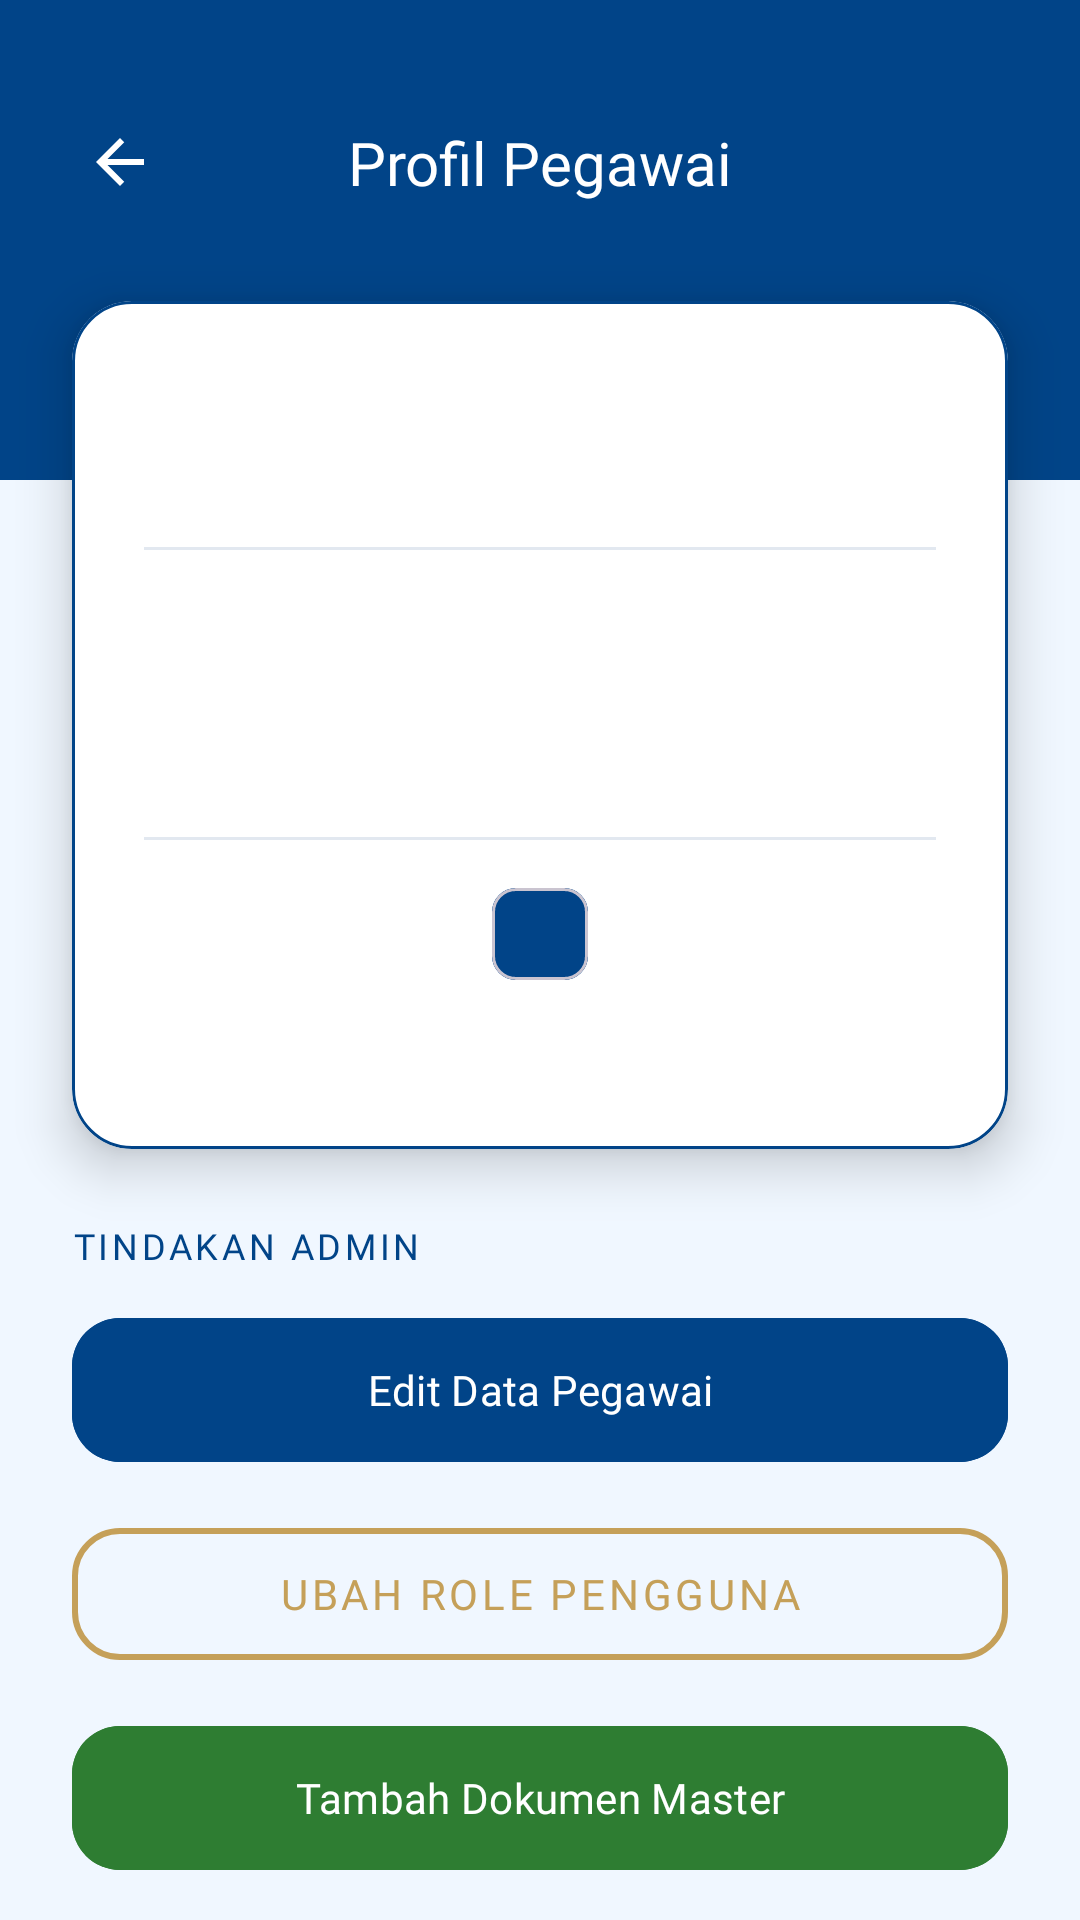

Icon click points for this 1080x1920 phone screenshot, format point (x, y):
arrow back: point (120, 162)
